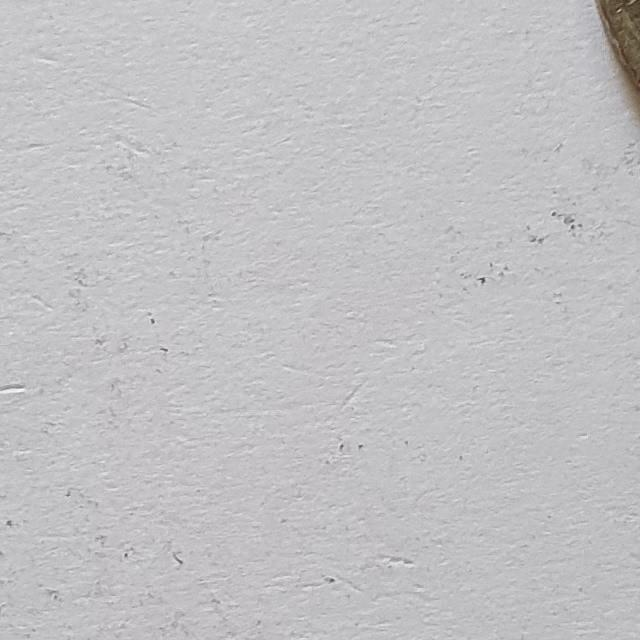2 Bath: (598, 1, 640, 105)
